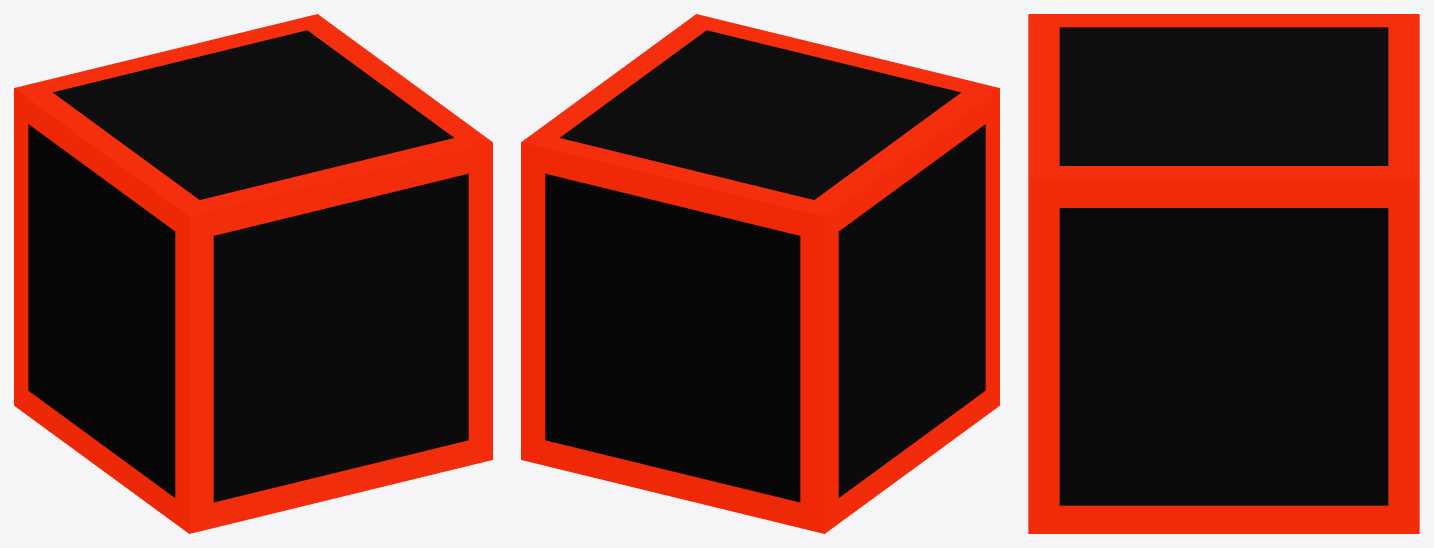
The model's file is appa1.glb.
3 renders of one model, left to right at view 1: azimuth 30°, elevation 25°; view 2: azimuth 150°, elevation 25°; view 3: azimuth 270°, elevation 25°, orthographic. The views are drawn at different scales.
Visible parts, largest first — view 1: appa1; view 2: appa1; view 3: appa1.
Part boxes in pixels (bbox=[...]): appa1: bbox=[14, 14, 492, 533]; appa1: bbox=[521, 14, 999, 533]; appa1: bbox=[1028, 14, 1419, 533].
Size of the model in its own units: 0.0734 by 0.0734 by 0.0734.
